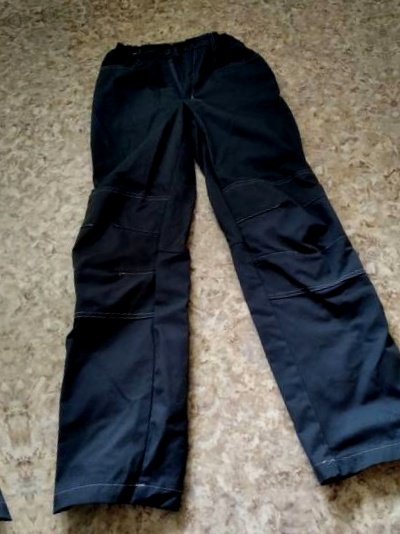Pants: (0, 0, 400, 534), (0, 61, 29, 534), (389, 0, 400, 486)
